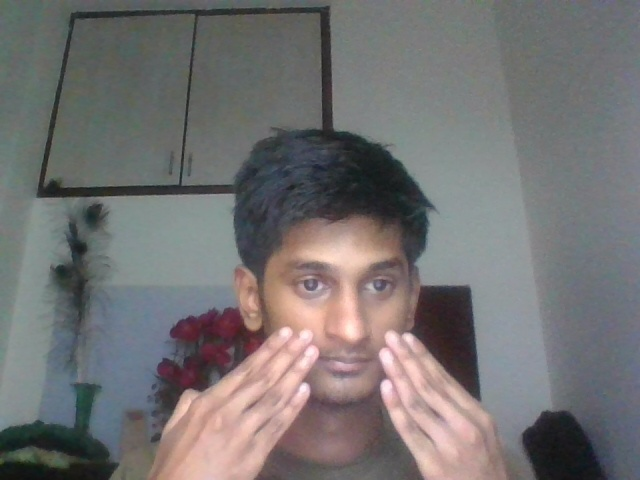Thank You: (146, 323, 521, 476)
